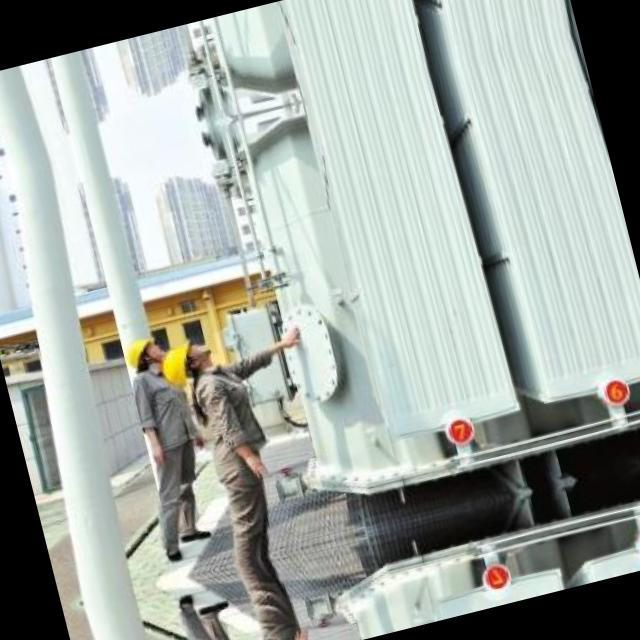helmet: (156, 333, 216, 389), (120, 326, 170, 382)
